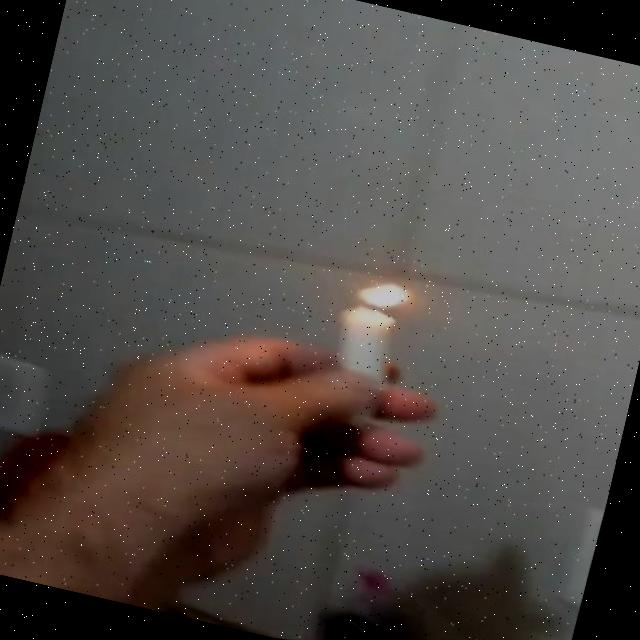fire: (352, 277, 412, 319)
